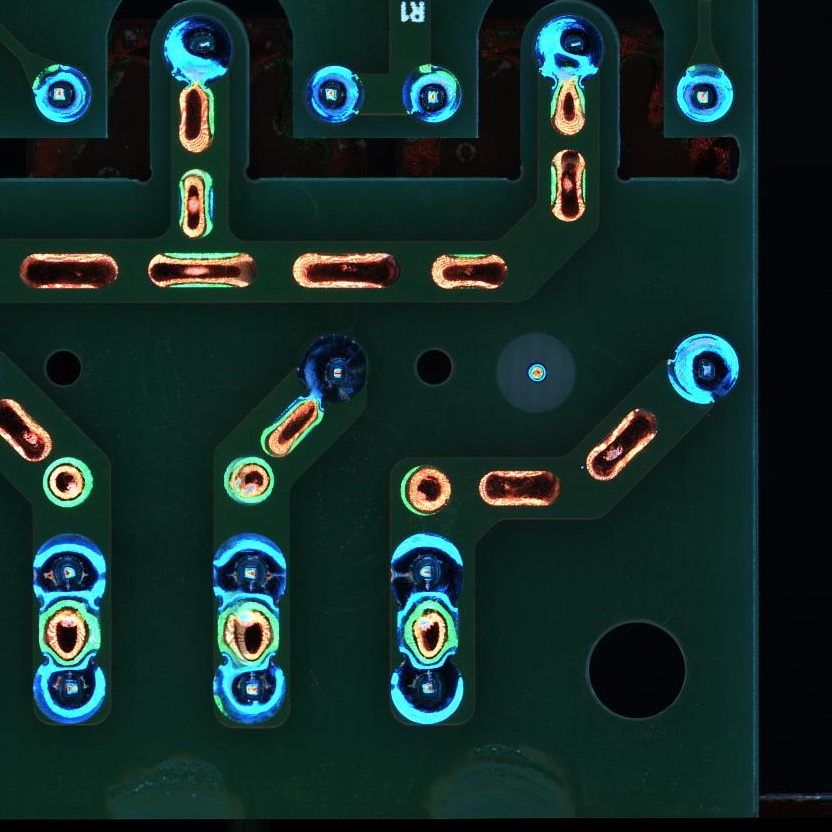spot: (209, 530, 290, 609), (31, 530, 108, 610), (388, 531, 466, 607), (666, 331, 741, 405), (161, 12, 237, 83), (29, 658, 108, 726), (298, 331, 370, 405), (531, 12, 606, 83), (210, 660, 287, 726), (388, 662, 467, 726), (400, 60, 465, 125), (29, 63, 94, 126), (300, 64, 366, 125), (675, 62, 737, 125)
